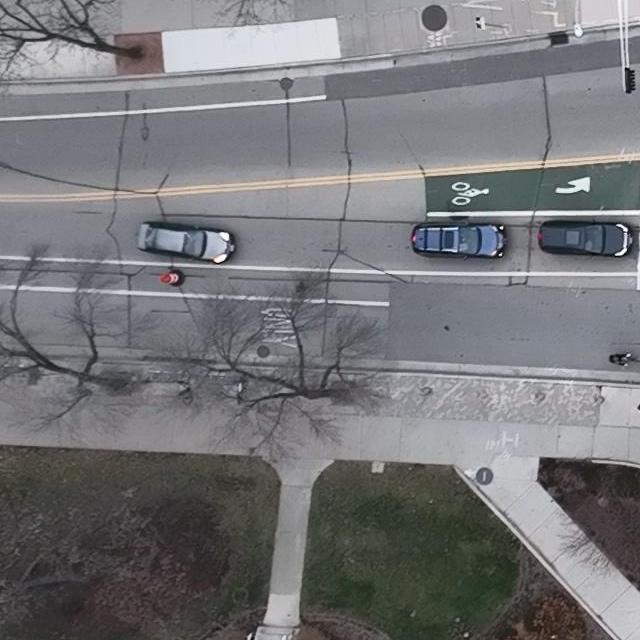car: (136, 220, 235, 265), (538, 220, 636, 258), (411, 222, 508, 259)
